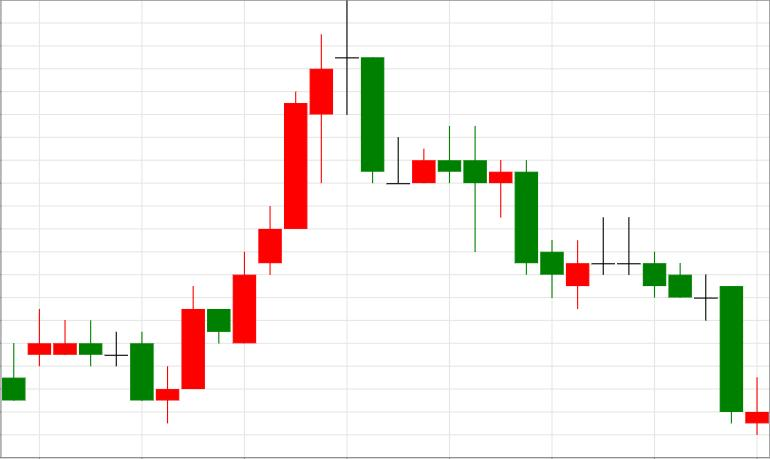evening_star_fall: (157, 1, 384, 425)
